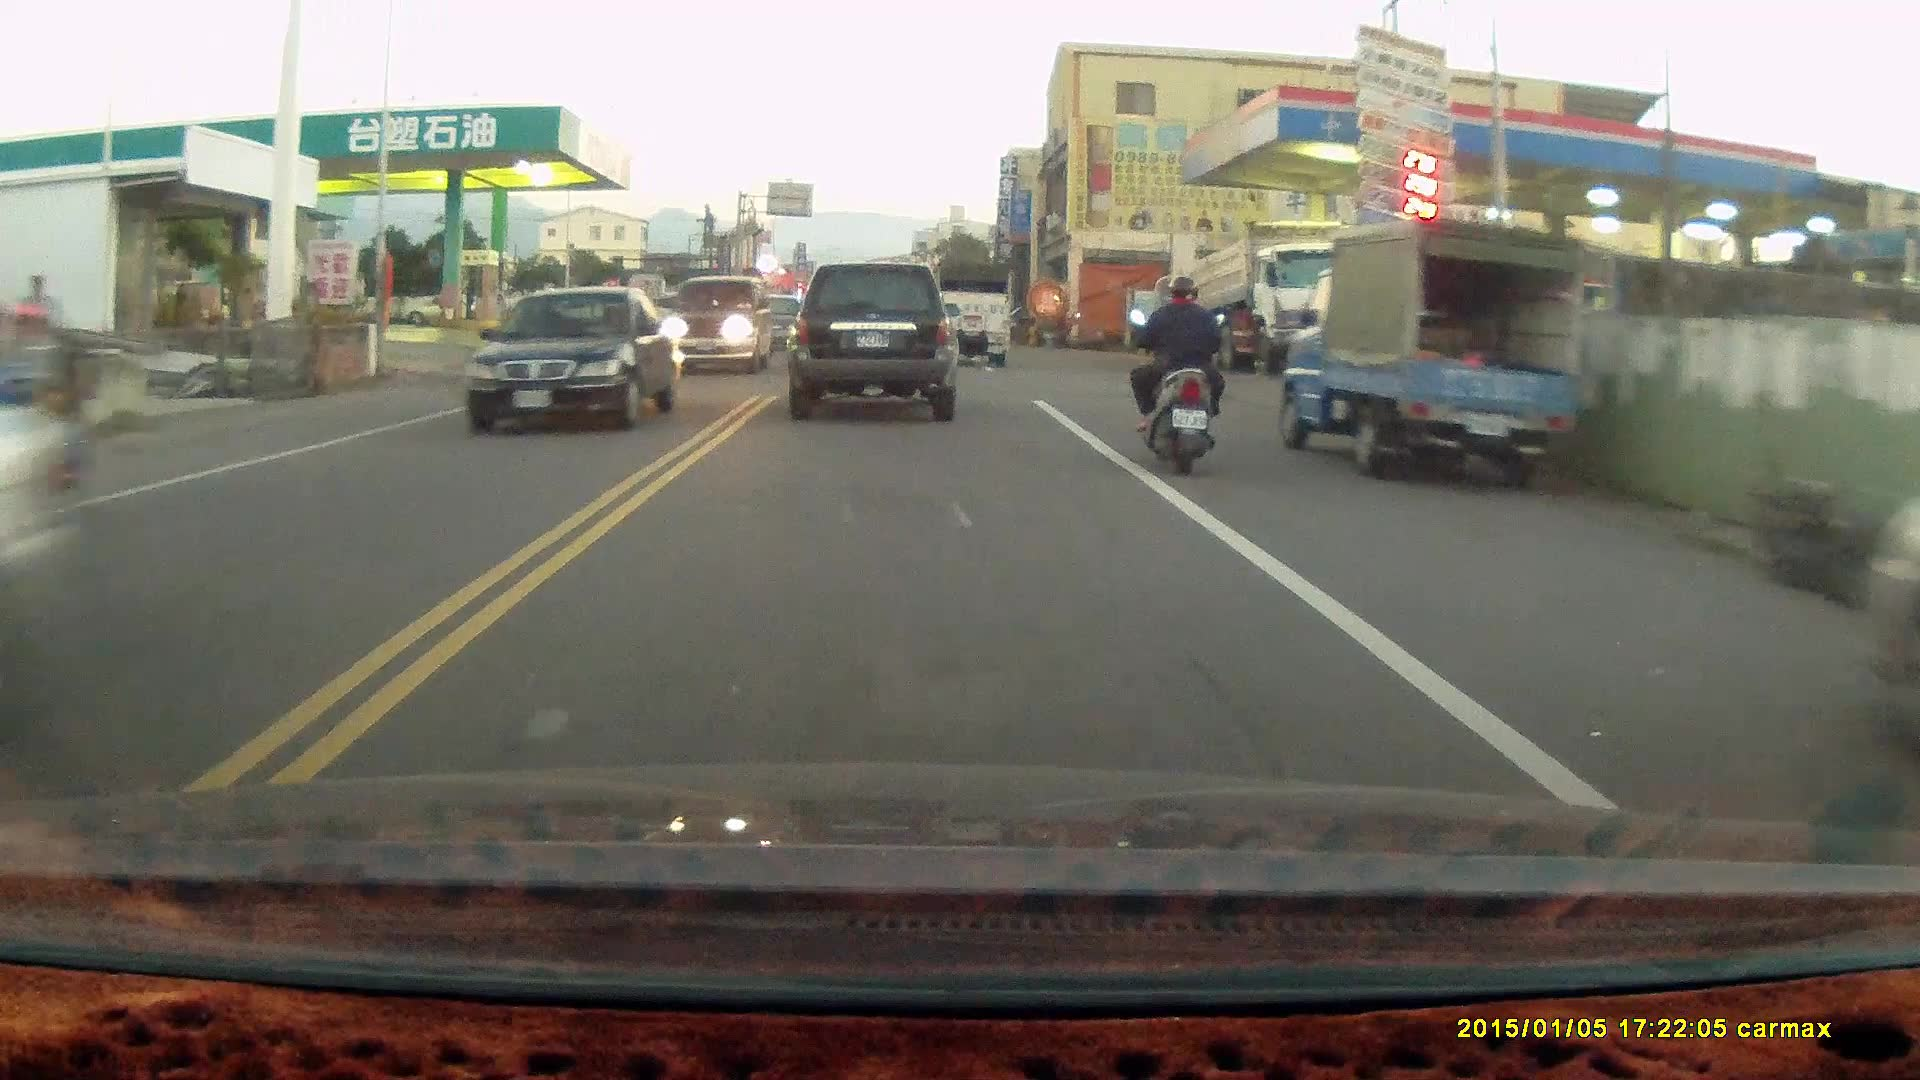rider: (1129, 277, 1229, 479)
vehicle: (1280, 221, 1599, 481), (466, 288, 689, 433), (788, 262, 958, 418), (662, 274, 778, 381), (919, 253, 1015, 364)
